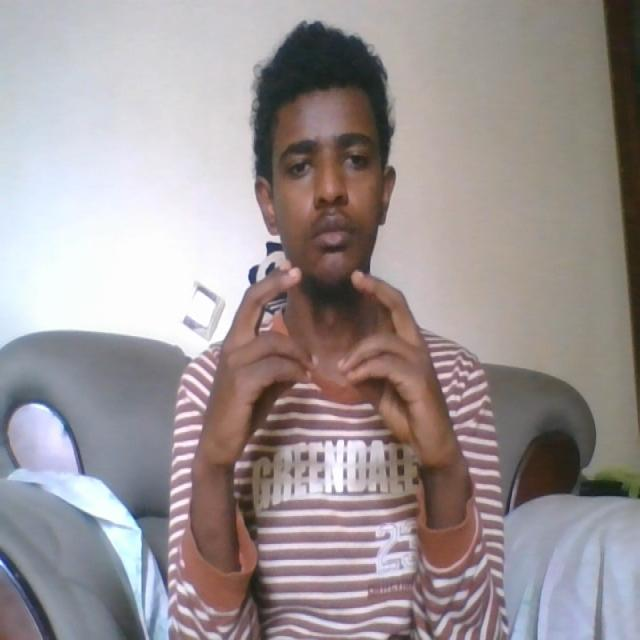sefer: (207, 257, 452, 461)
